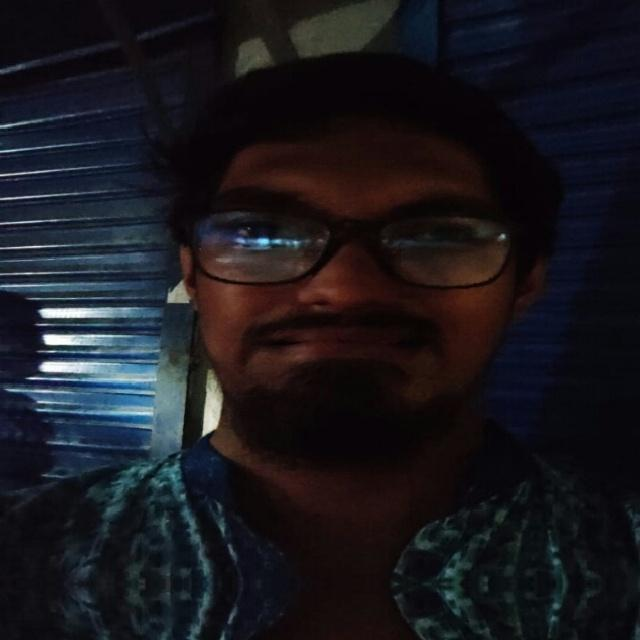Disgust: (92, 119, 598, 466)
